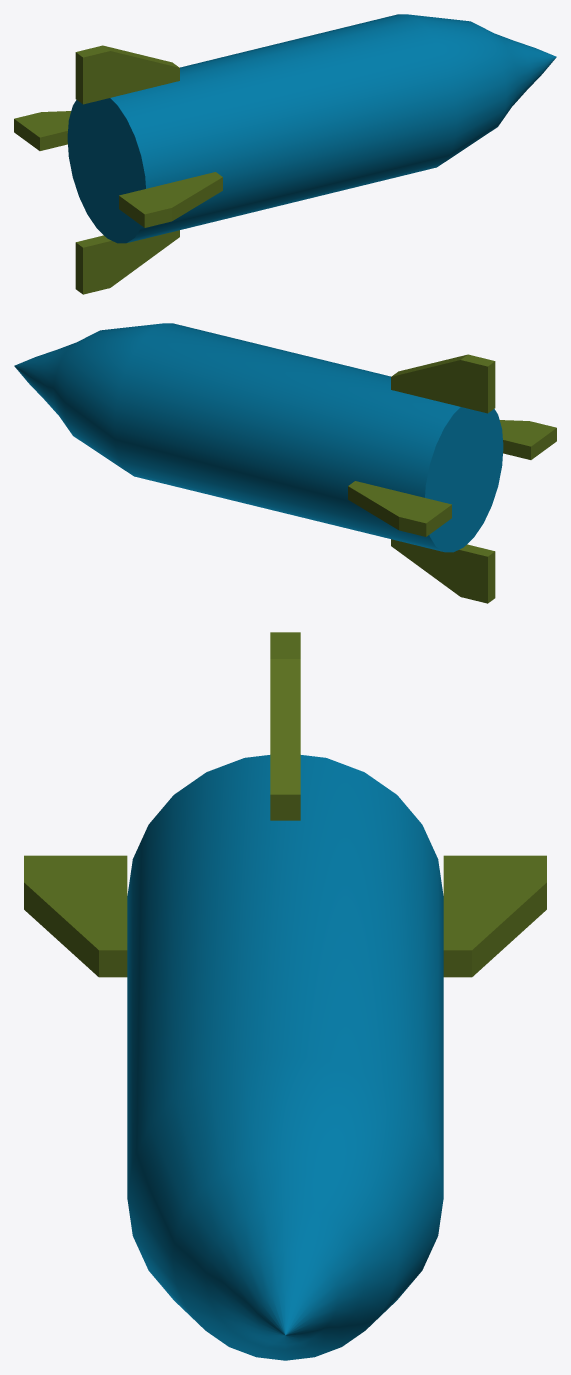
File: Missile.FBX
3 views of the same model, one above another, from view 1: azimuth 30°, elevation 25°; view 2: azimuth 150°, elevation 25°; view 3: azimuth 270°, elevation 25° (orthographic). The views are drawn at different scales.
Parts seen in each view (by area): view 1: Missile, Box002, Box001, Box004, Box003; view 2: Missile, Box002, Box001, Box003, Box004; view 3: Missile, Box004, Box003, Box002.
Boxes of the visible parts, <box> form: Missile: <box>67,14,556,243</box>; Box002: <box>75,45,179,104</box>; Box001: <box>75,230,179,294</box>; Box004: <box>119,172,222,227</box>; Box003: <box>14,111,71,150</box>; Missile: <box>14,323,503,552</box>; Box002: <box>391,354,495,413</box>; Box001: <box>391,539,495,603</box>; Box003: <box>348,481,451,536</box>; Box004: <box>499,420,556,459</box>; Missile: <box>127,755,443,1360</box>; Box004: <box>24,855,127,977</box>; Box003: <box>443,855,546,977</box>; Box002: <box>270,632,300,820</box>.
Bounding box in the file's own units: 136 × 64.49 × 64.49.
